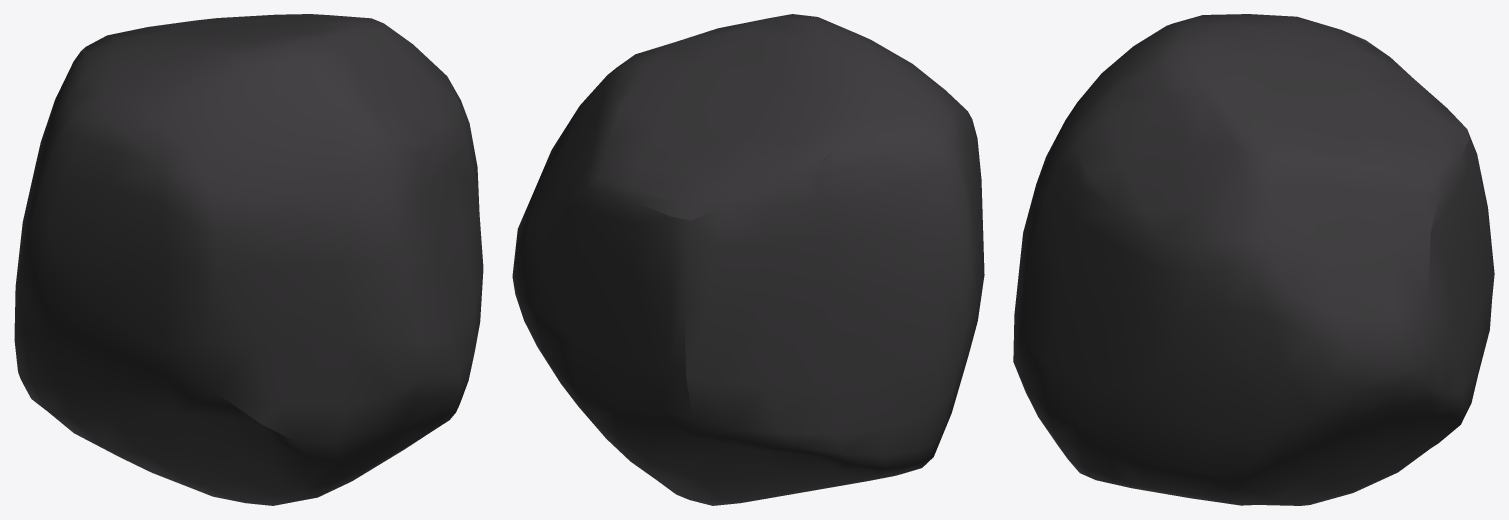
The model's file is Projectile_1_Cannonball.obj.
3 renders of one model, left to right at view 1: azimuth 30°, elevation 25°; view 2: azimuth 150°, elevation 25°; view 3: azimuth 270°, elevation 25°, orthographic. The views are drawn at different scales.
Parts seen in each view (by area): view 1: Projectile_1_Cannonball; view 2: Projectile_1_Cannonball; view 3: Projectile_1_Cannonball.
Boxes of the visible parts, x1,y1,x2,y2 form: Projectile_1_Cannonball: (14,14,483,505); Projectile_1_Cannonball: (512,14,984,505); Projectile_1_Cannonball: (1013,14,1494,505).
Bounding box in the file's own units: 0.4043 × 0.4062 × 0.3903.
